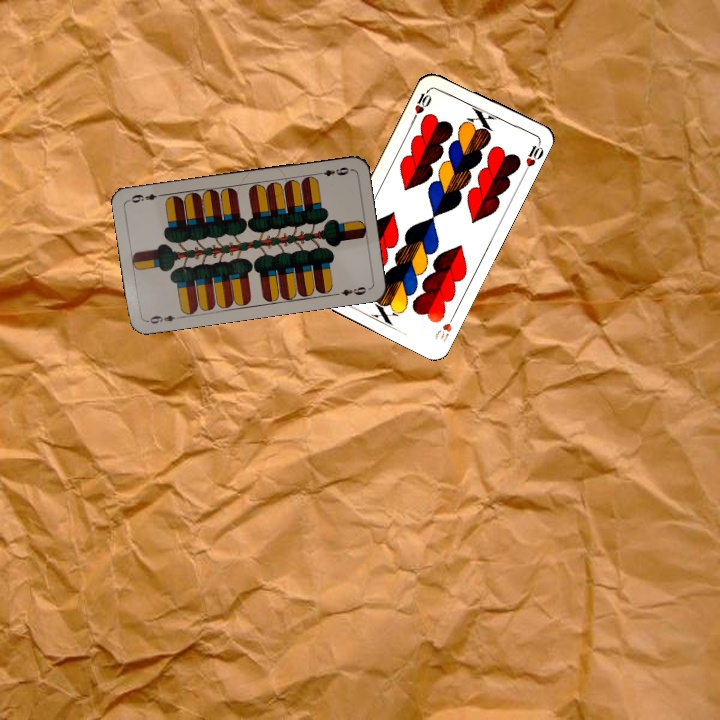E9: (143, 311, 184, 326), (313, 163, 351, 179)
H10: (431, 308, 459, 345), (409, 85, 434, 122)
